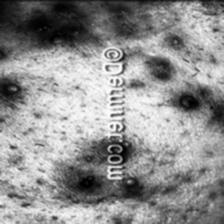Non-Cancerous Skin Condition: (80, 176, 98, 188), (47, 32, 67, 42), (182, 98, 196, 107), (6, 82, 20, 90), (124, 178, 136, 184), (172, 38, 181, 44), (156, 72, 164, 78)
